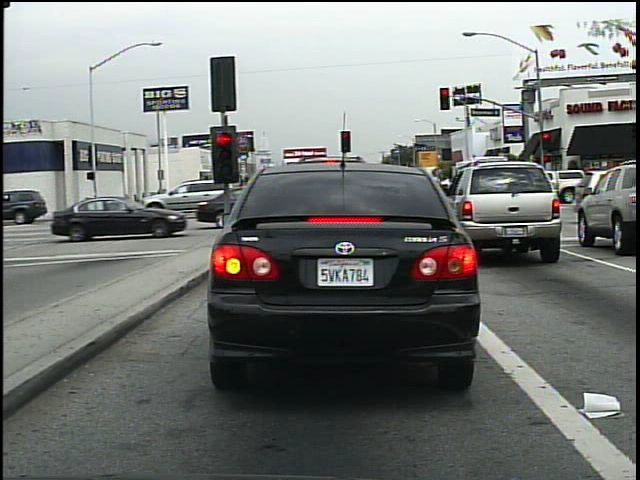person: (193, 177, 216, 216)
